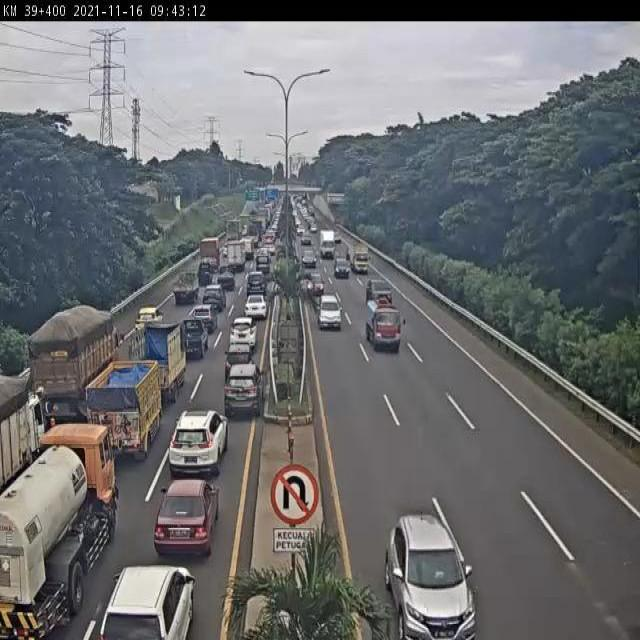car: (386, 514, 476, 640), (98, 565, 194, 640), (156, 478, 220, 558), (171, 409, 229, 476), (225, 365, 266, 420), (182, 319, 208, 361), (224, 344, 253, 381), (316, 294, 343, 330), (135, 305, 163, 335), (231, 319, 257, 348), (191, 304, 218, 331), (201, 284, 227, 311), (366, 279, 393, 304), (243, 294, 268, 318), (216, 264, 236, 289), (246, 271, 266, 296), (306, 272, 324, 296), (196, 261, 213, 284)
small truck: (88, 359, 163, 461), (127, 324, 186, 404), (365, 297, 403, 352), (171, 271, 201, 304)
truck-m-: (0, 421, 117, 640), (29, 305, 120, 415), (0, 378, 45, 498)
